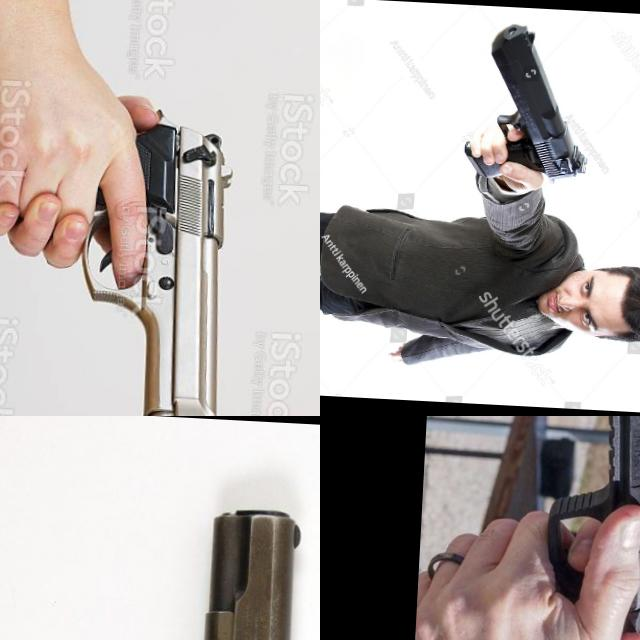handgun: (66, 102, 251, 416), (0, 491, 314, 640), (458, 16, 599, 190), (534, 416, 640, 640)
